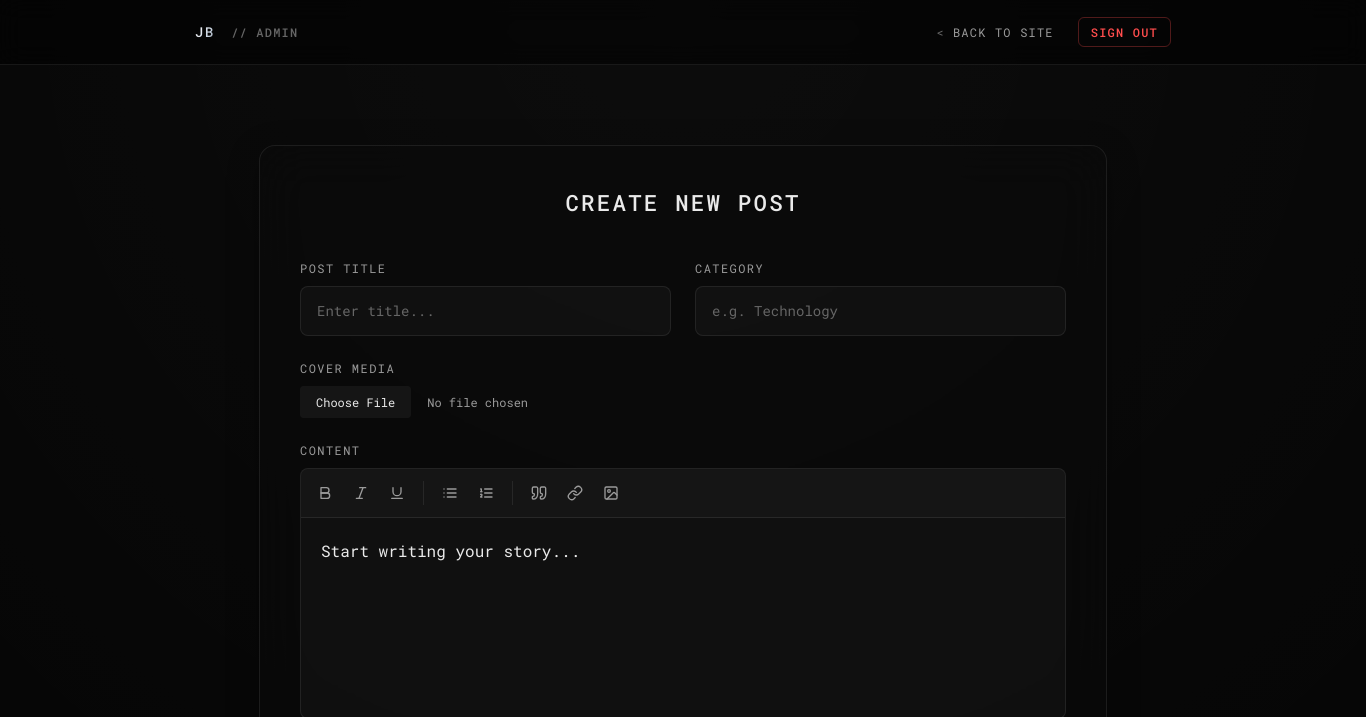
Scenario: AdminDashboard › publishes a new post and adds it to the list
In the field with placeholder "Enter title...": x=486, y=311 left=300, top=286, right=671, bottom=336, type "New Post Title"
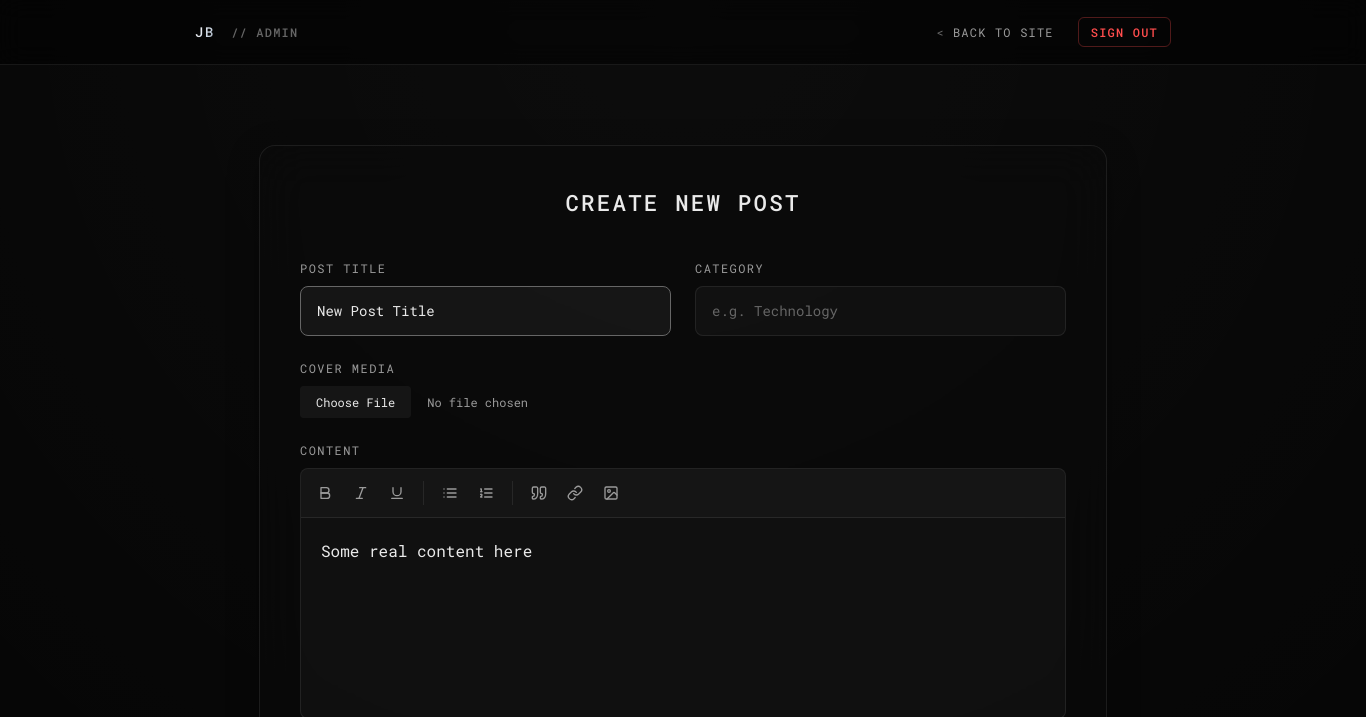
Clear the text box labelled "Some real content here": x=427, y=550 left=321, top=540, right=532, bottom=561
(page scrolled)
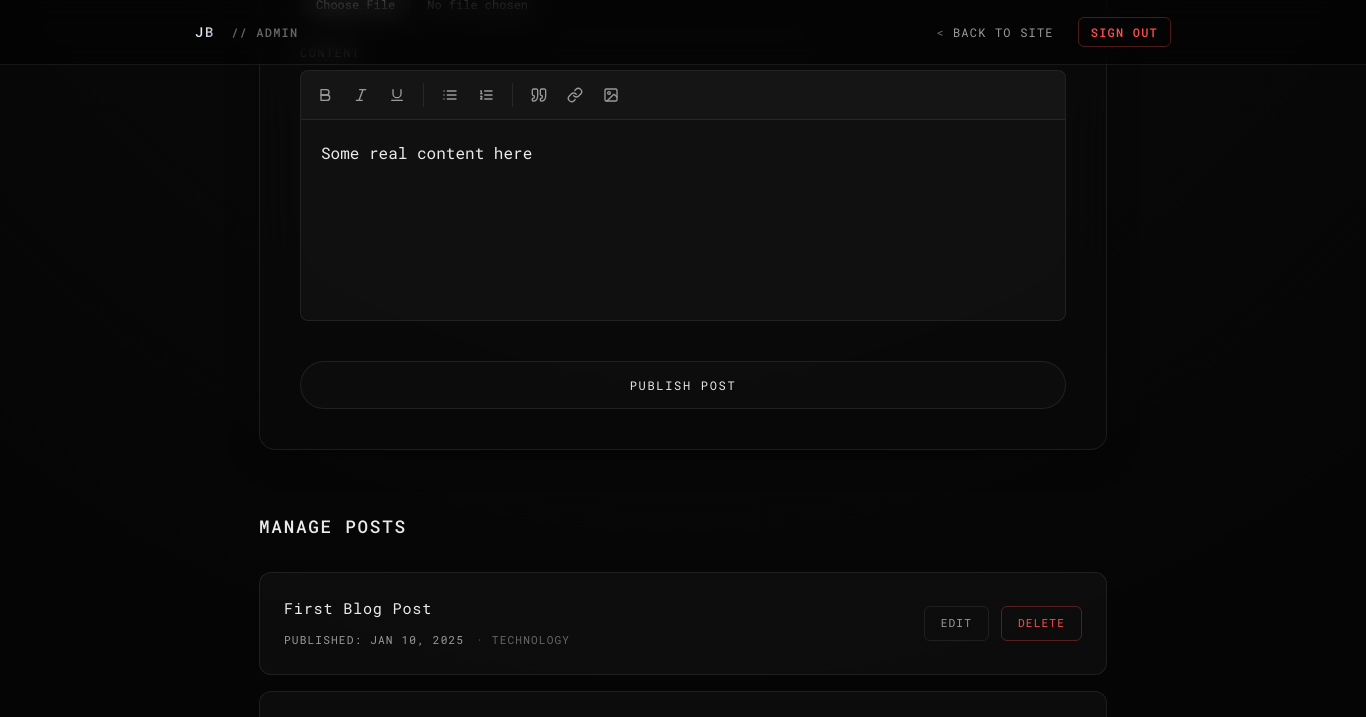
Click the button "PUBLISH POST": x=683, y=385 left=300, top=361, right=1066, bottom=409
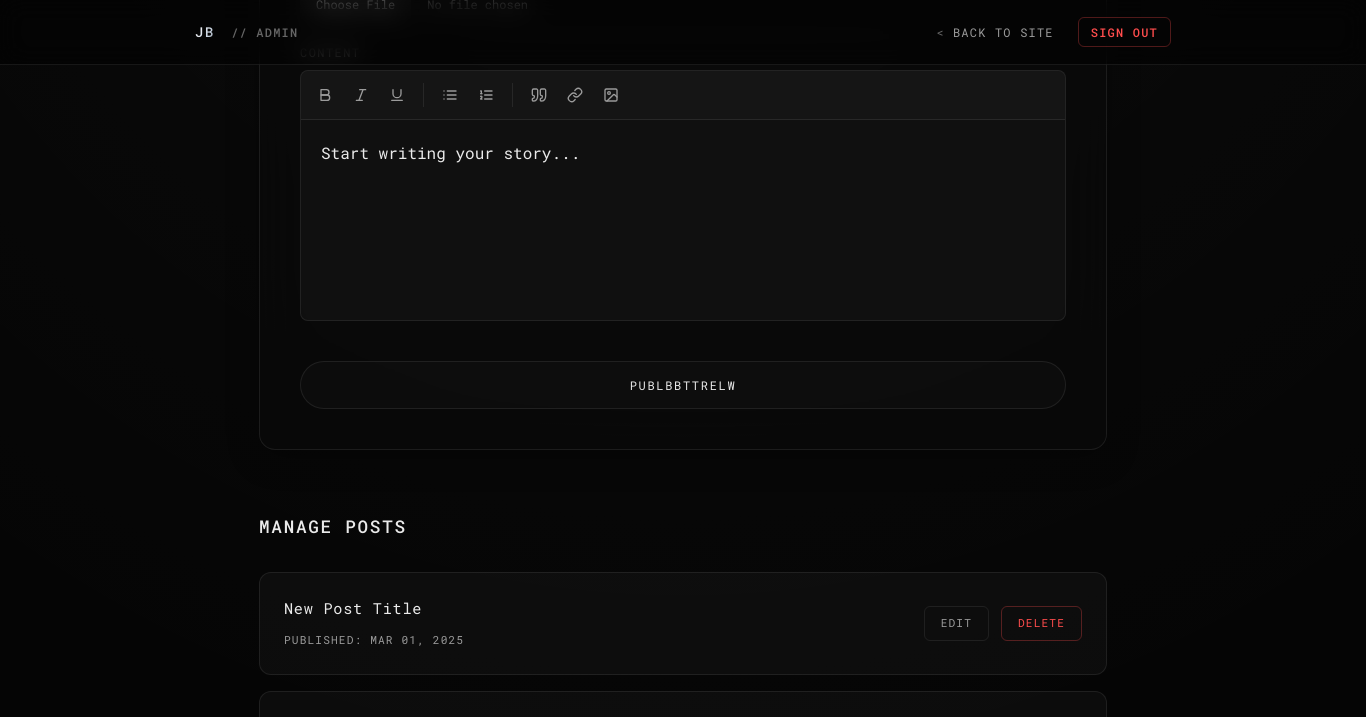
expect the heading "New Post Title" is shown: met, box left=284, top=598, right=422, bottom=618
